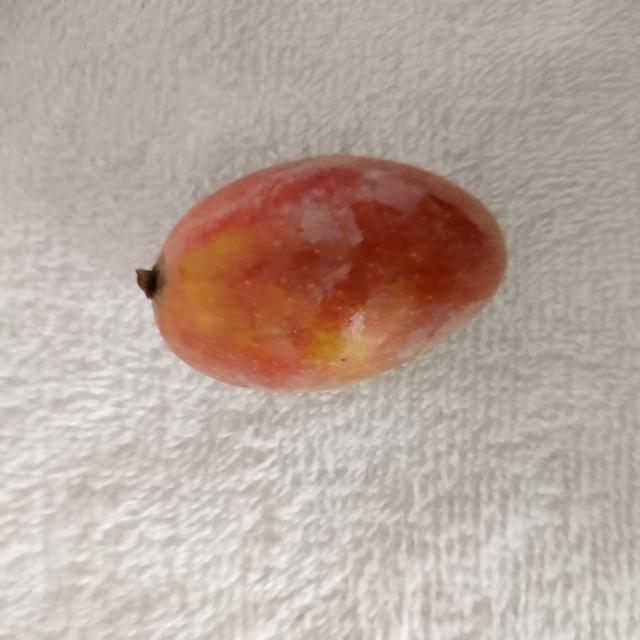mango: (134, 148, 507, 397)
